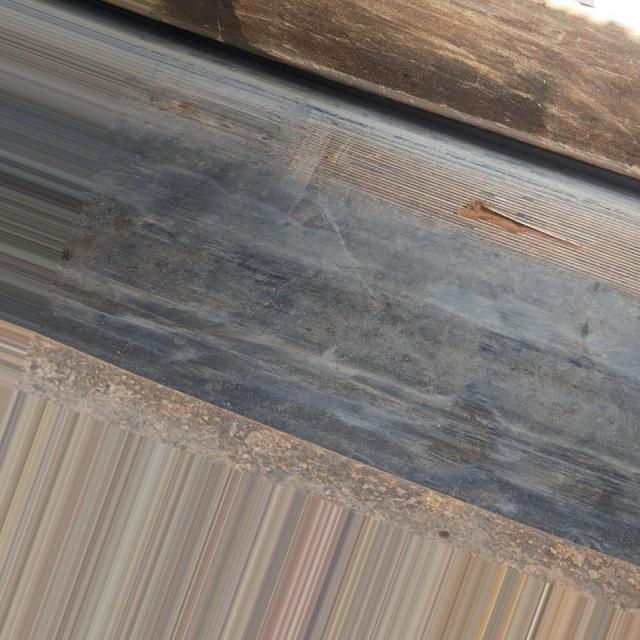impact damage: (304, 114, 636, 261)
